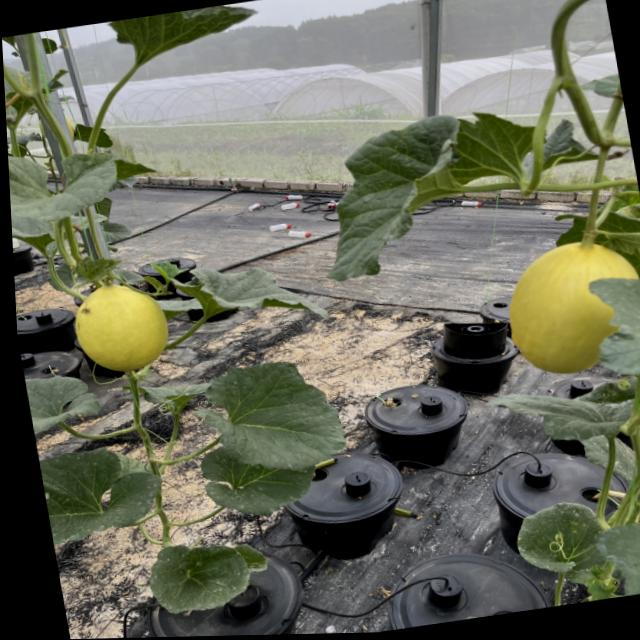CMV: (105, 0, 271, 68)
healthy: (289, 103, 504, 293), (185, 354, 351, 482), (172, 245, 340, 338), (8, 142, 126, 231), (24, 370, 103, 432)
powdery mildew: (38, 441, 170, 544), (142, 534, 258, 616), (508, 497, 612, 581)
